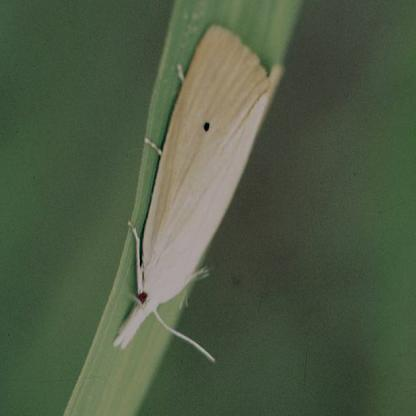stem-borer: (107, 18, 290, 358)
